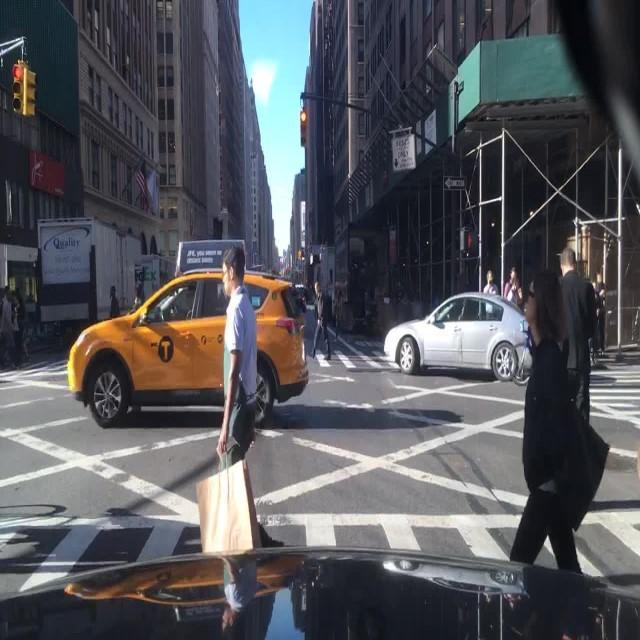normal: (62, 244, 309, 432), (387, 293, 535, 383)
